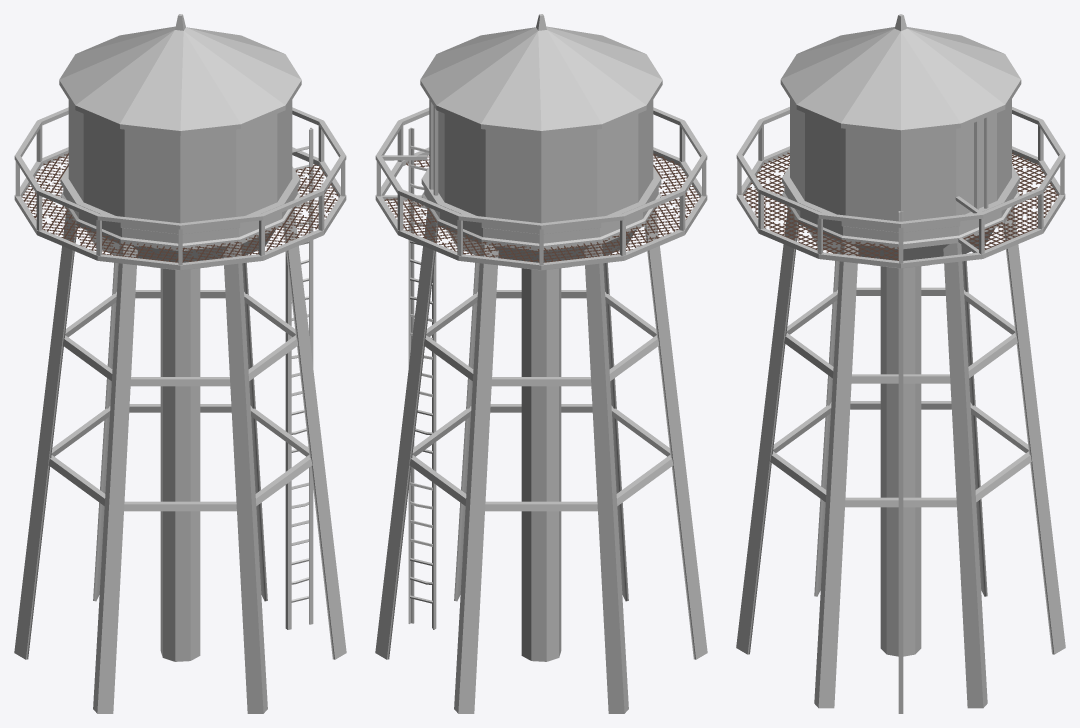
File: SM_Bld_WaterTower_01.fbx
The picture shows the model from 3 angles, left to right: view 1: azimuth 30°, elevation 25°; view 2: azimuth 150°, elevation 25°; view 3: azimuth 270°, elevation 25°; orthographic projection.
Visible parts, largest first — view 1: SM_Bld_WaterTower_01; view 2: SM_Bld_WaterTower_01; view 3: SM_Bld_WaterTower_01.
Boxes of the visible parts, x1=… form: SM_Bld_WaterTower_01: x1=14, y1=14, x2=346, y2=713; SM_Bld_WaterTower_01: x1=375, y1=14, x2=707, y2=713; SM_Bld_WaterTower_01: x1=736, y1=14, x2=1065, y2=713.
Size of what is drawn, in the model's own units: 596 by 1271 by 598.
